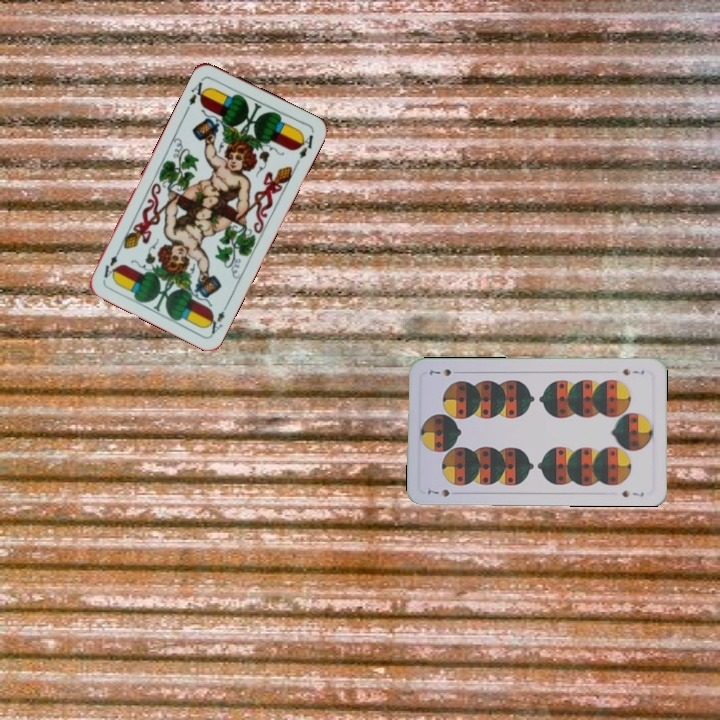EA: (202, 299, 231, 337), (185, 75, 210, 108)
S7: (423, 485, 452, 499), (619, 365, 647, 378)
